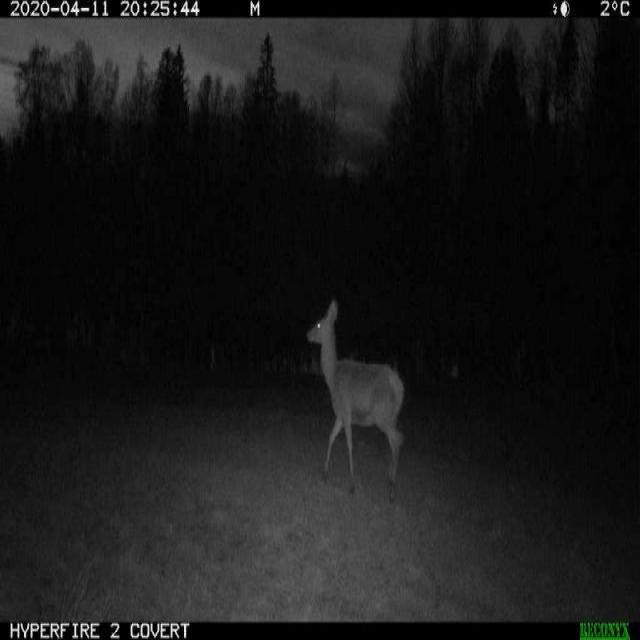deer: (294, 303, 411, 508)
